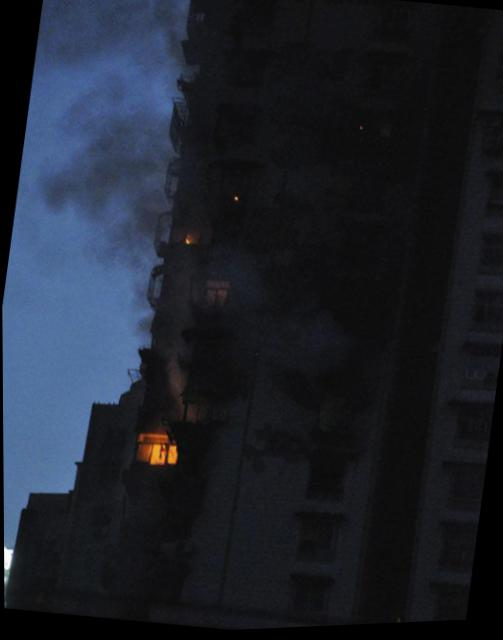fire: (147, 442, 165, 466), (164, 443, 177, 465)
